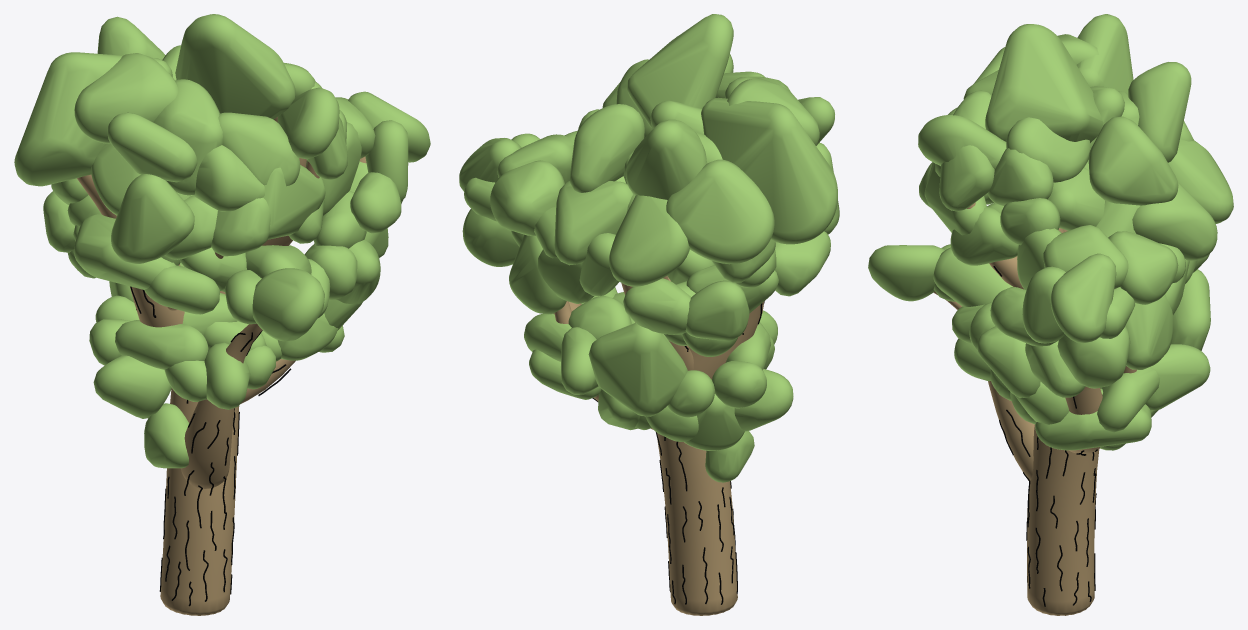
Rendered from finaltree.fbx.
3 views of the same model, side by side, from view 1: azimuth 30°, elevation 25°; view 2: azimuth 150°, elevation 25°; view 3: azimuth 270°, elevation 25° (orthographic). The views are drawn at different scales.
Parts seen in each view (by area): view 1: finaltree; view 2: finaltree; view 3: finaltree.
Boxes of the visible parts, x1,y1,x2,y2 form: finaltree: (14,14,430,615); finaltree: (459,14,839,615); finaltree: (868,14,1233,615).
Size of the model in its own units: 22109 by 31893 by 18196.
